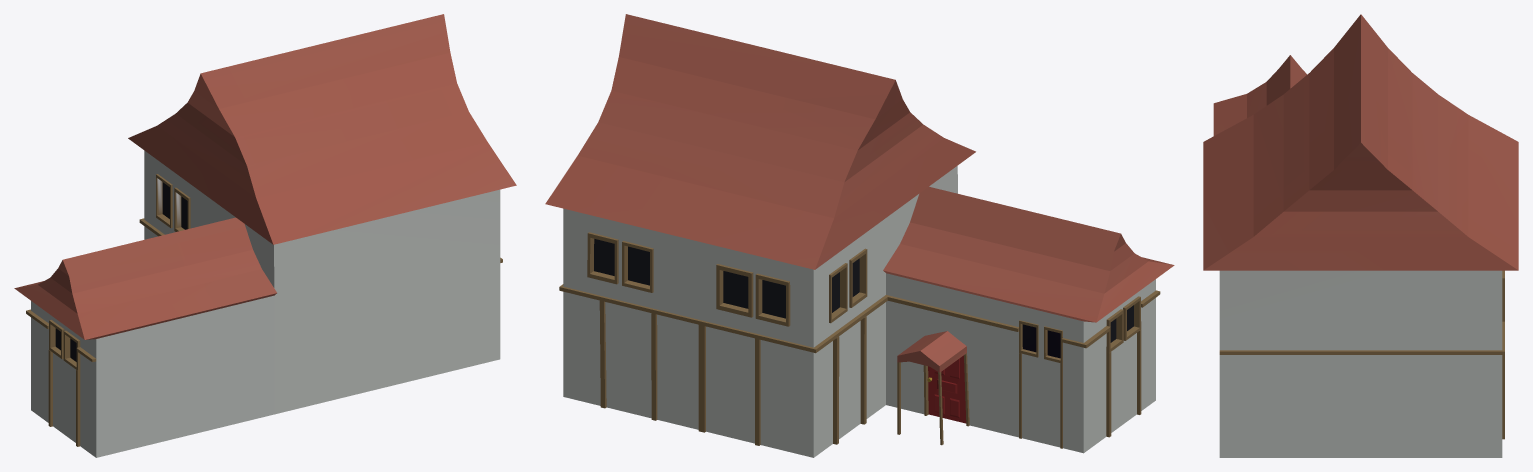
File: house_exterior.gltf
3 views of the same model, side by side, from view 1: azimuth 30°, elevation 25°; view 2: azimuth 150°, elevation 25°; view 3: azimuth 270°, elevation 25° (orthographic). The views are drawn at different scales.
Visible parts, largest first — view 1: house; view 2: house; view 3: house.
Part boxes in pixels (x1,y1,x2,y2): house: (14, 14, 516, 457); house: (545, 14, 1174, 457); house: (1203, 14, 1518, 457).
Bounding box in the file's own units: 3.78 × 2.5 × 2.23.
